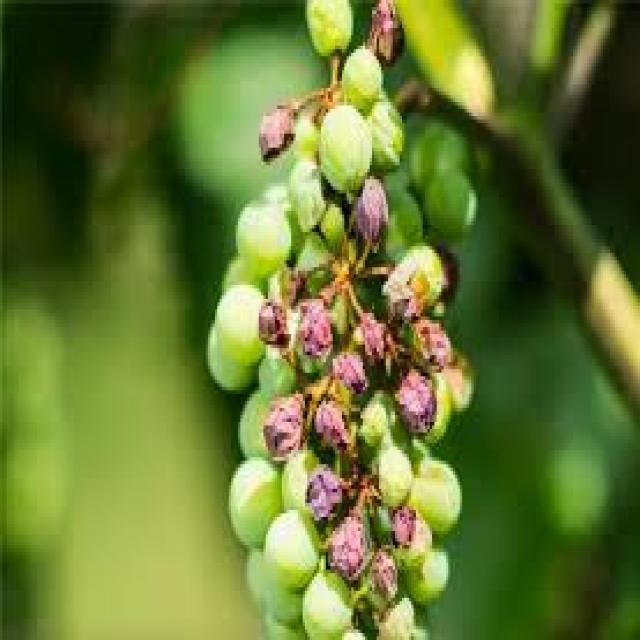organic waste: (349, 376, 404, 475), (314, 102, 370, 193), (227, 454, 280, 545), (210, 282, 268, 362), (416, 155, 474, 232), (242, 549, 300, 626), (414, 120, 474, 194), (233, 197, 289, 271), (406, 454, 459, 531), (264, 506, 314, 584), (300, 566, 352, 637), (203, 316, 254, 387), (390, 362, 434, 436), (321, 499, 365, 570), (400, 538, 448, 601), (286, 151, 324, 229), (395, 239, 441, 303), (337, 39, 379, 109), (291, 222, 335, 288), (266, 183, 305, 257), (263, 387, 303, 457), (362, 0, 402, 70), (372, 436, 409, 510), (275, 443, 316, 506), (303, 0, 351, 53), (367, 88, 400, 165), (356, 172, 388, 250), (388, 179, 423, 250), (252, 95, 296, 151), (381, 267, 425, 320), (393, 503, 430, 566), (303, 457, 342, 514), (254, 348, 298, 397), (416, 373, 450, 436), (236, 390, 266, 461), (358, 306, 391, 369), (296, 296, 330, 356), (407, 317, 446, 369), (256, 292, 294, 344), (446, 344, 474, 412), (275, 260, 312, 310), (465, 123, 492, 190), (310, 394, 344, 439), (370, 538, 397, 594), (218, 253, 264, 285), (354, 383, 384, 432), (264, 605, 310, 636), (388, 499, 416, 542), (316, 190, 339, 239), (439, 246, 457, 303), (291, 116, 317, 151), (340, 626, 358, 636)
